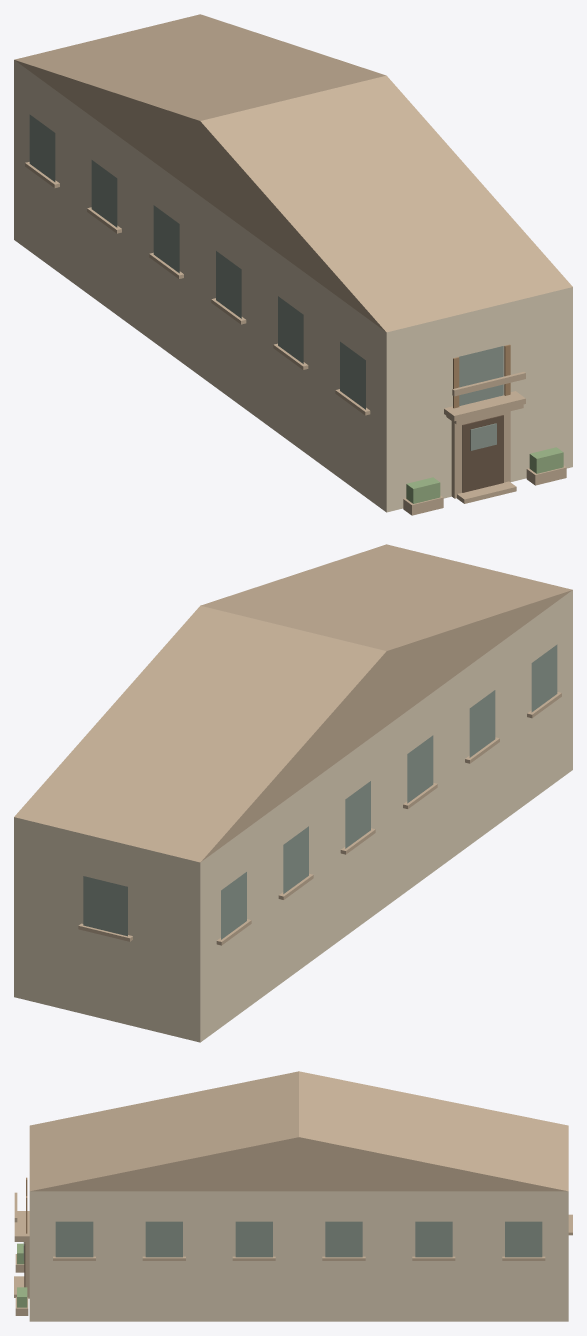
File: residential_1x3_a.glb
3 views of the same model, one above another, from view 1: azimuth 30°, elevation 25°; view 2: azimuth 150°, elevation 25°; view 3: azimuth 270°, elevation 25° (orthographic). The views are drawn at different scales.
Parts seen in each view (by area): view 1: residential_1x3_a_0; view 2: residential_1x3_a_0; view 3: residential_1x3_a_0.
Part boxes in pixels (x1,y1,x2,y2): residential_1x3_a_0: (14, 14, 572, 515); residential_1x3_a_0: (14, 544, 572, 1042); residential_1x3_a_0: (14, 1071, 572, 1321).
Size of the model in its own units: 6.86 by 8.5 by 23.33.
